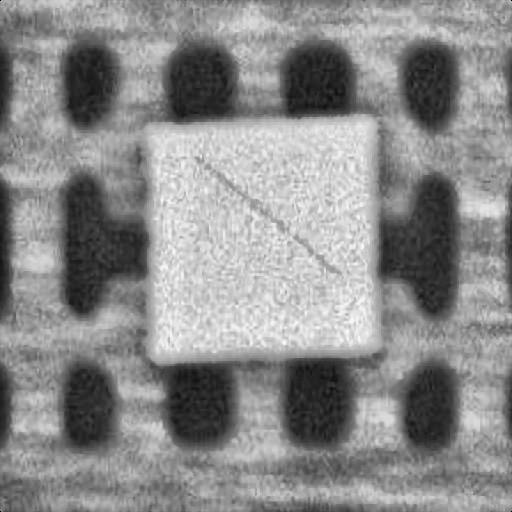DIE_CRACK: (292, 103, 509, 182)
